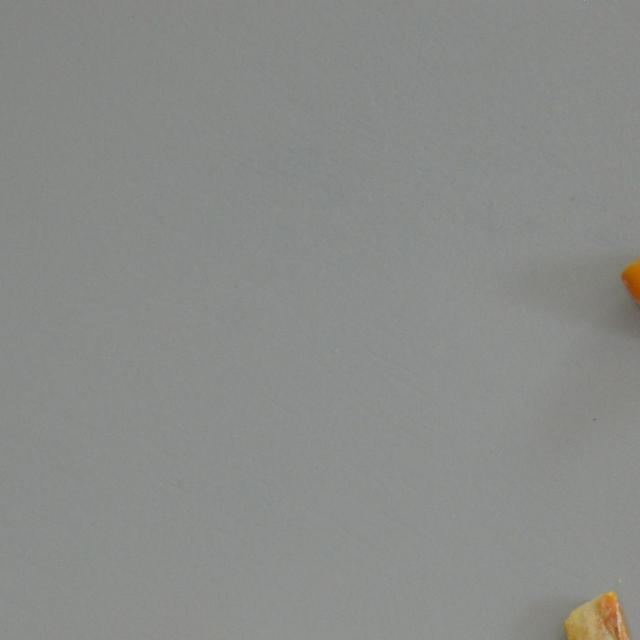dañado: (560, 588, 640, 640), (614, 243, 640, 346)
